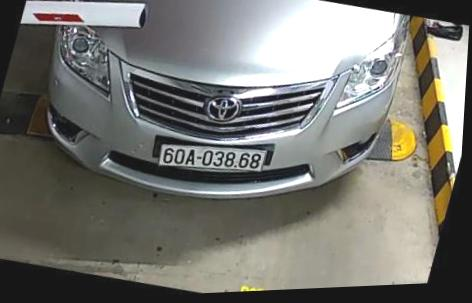License_Plate: (156, 134, 275, 185)
